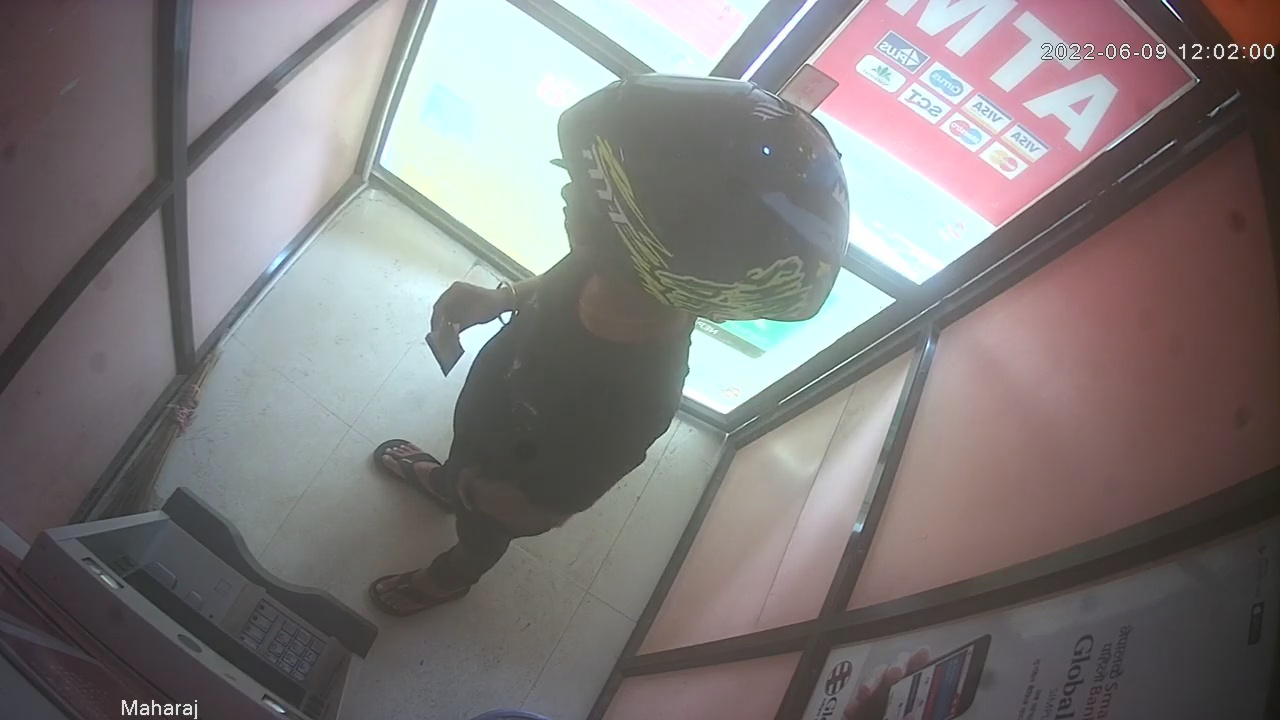helmet: (554, 74, 851, 322)
person: (365, 72, 853, 631)
